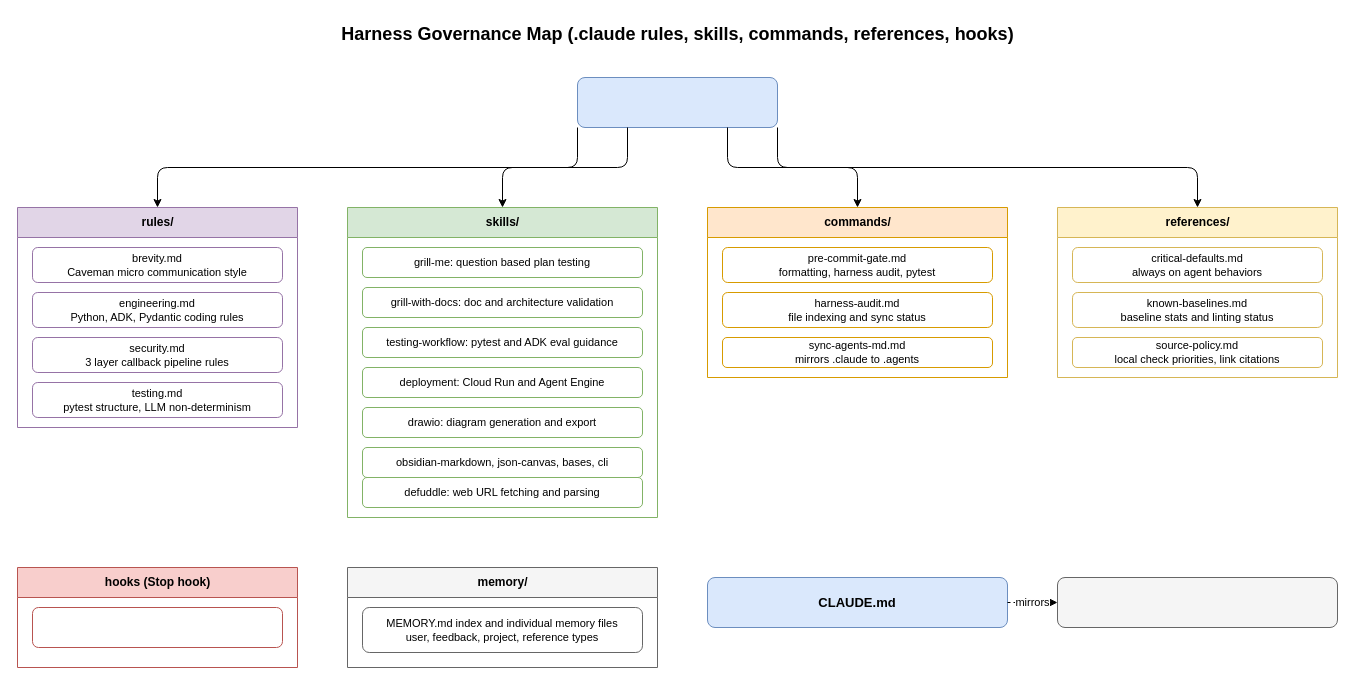
Some shapes in this 1355 by 685 pixel diagram are drawn without their labels. The shapes that lost their labels are listed below. From the top down, each one's centre as x and y in pixels, then its label:
At point (677, 102): ".claude/".
At point (1197, 602): "AGENTS.md (mirrored copy)".
At point (157, 627): "scripts/sync_wiki.py runs after every turn".
